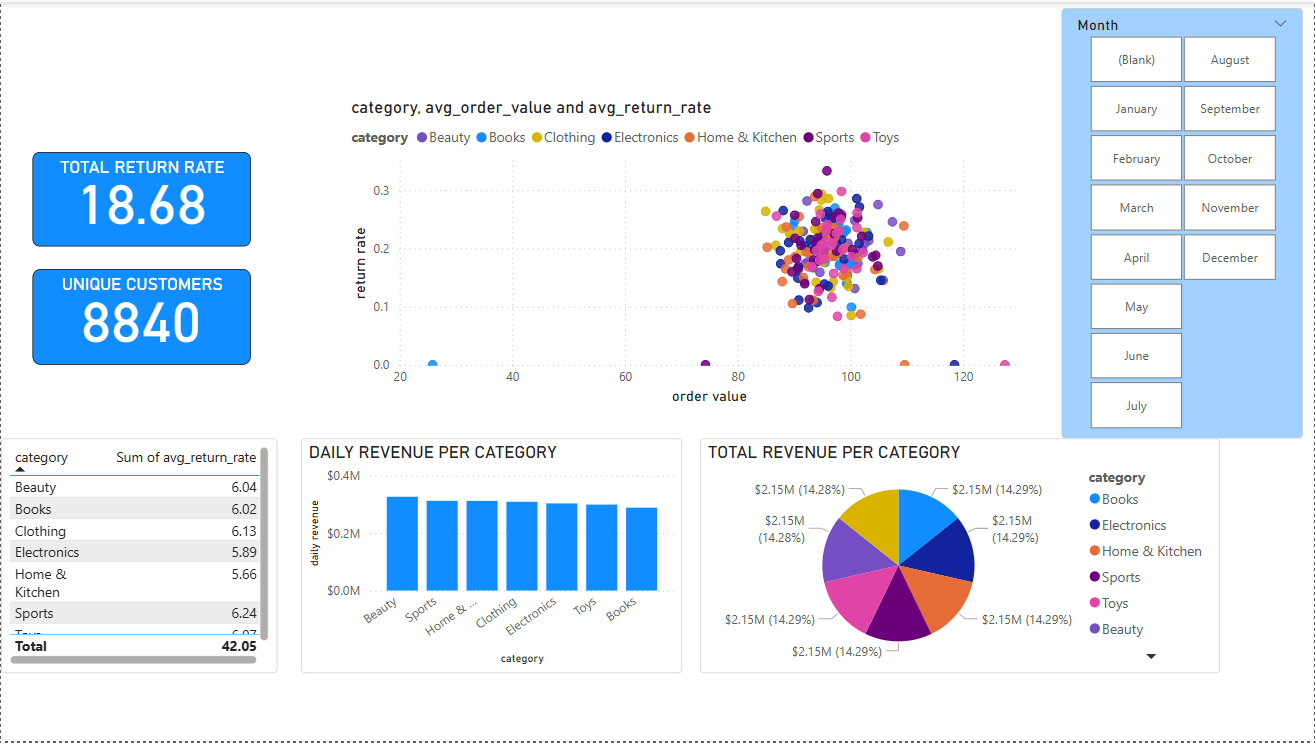

The dashboard page shown, as its layout file describes it:
{"tool":"powerbi","page":{"name":"Page 1","canvas":[1280,720],"ordinal":1},"visuals":[{"type":"columnChart","title":"DAILY REVENUE PER CATEGORY","fields":{"Y":["Sum(results.daily_revenue)"],"Category":["results.category"]},"box":[291.9,424.7,371.4,228.4],"z":0},{"type":"scatterChart","fields":{"X":["results.avg_order_value"],"Y":["results.avg_return_rate"],"Series":["results.category"]},"box":[336.7,91.4,670.9,304.6],"z":1000},{"type":"pieChart","title":"TOTAL REVENUE PER CATEGORY","fields":{"Category":["results.category"],"Y":["Sum(results (1).total_revenue)"]},"box":[681,424.7,506.8,228.4],"z":2000},{"type":"card","title":"UNIQUE CUSTOMERS","fields":{"Values":["Sum(results (1).unique_customers)"]},"box":[31.3,260.6,212.3,93.1],"z":3000},{"type":"card","title":"TOTAL RETURN RATE","fields":{"Values":["Sum(results (1).return_rate)"]},"box":[31.3,145.5,212.3,92.2],"z":4000},{"type":"tableEx","fields":{"Values":["results.category","Sum(results.avg_return_rate)"]},"box":[0,424.7,269,228.4],"z":5000},{"type":"slicer","fields":{"Values":["results (1).order_date.Variation.Date Hierarchy.Month"]},"box":[1033.3,5.8,235.3,419.4],"z":6000}]}

Visuals, with their boxes in screenshot pixels (x1, y1, x2, y2), scaled from the page's 1280x720 canvas onto the 1315x743 screenshot:
"DAILY REVENUE PER CATEGORY" columnChart: 300/438/681/674
scatterChart - results.avg_order_value x results.avg_return_rate: 346/94/1035/409
"TOTAL REVENUE PER CATEGORY" pieChart: 700/438/1220/674
"UNIQUE CUSTOMERS" card: 32/269/250/365
"TOTAL RETURN RATE" card: 32/150/250/245
tableEx - results.category x Sum(results.avg_return_rate): 0/438/276/674
slicer - results (1).order_date.Variation.Date Hierarchy.Month: 1062/6/1303/439
